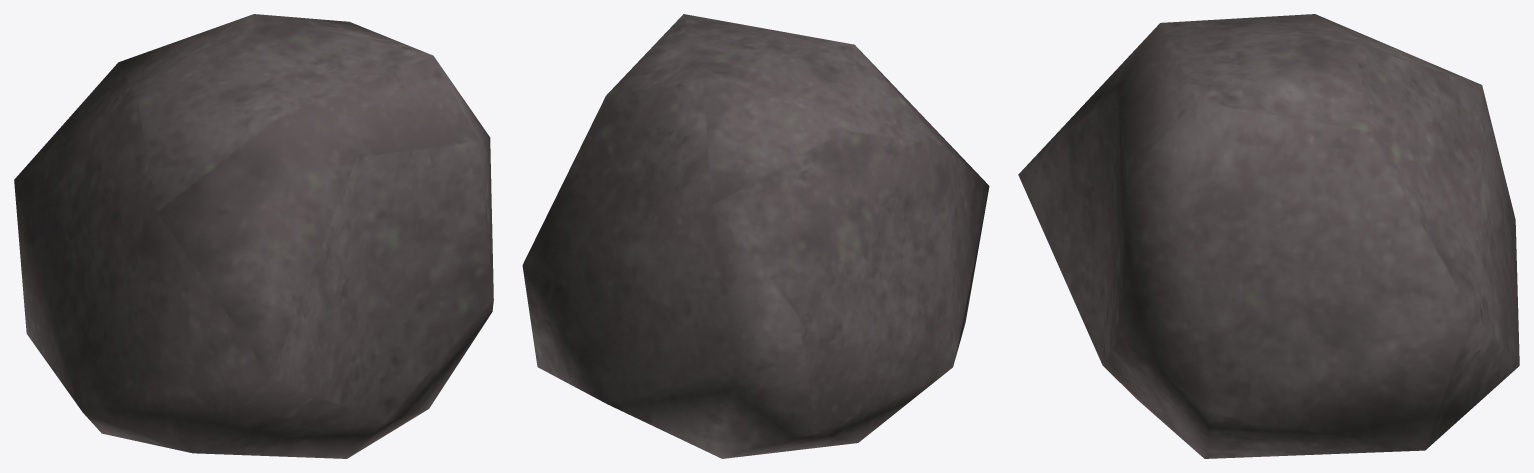
Rendered from SM_SmallRock3.fbx.
3 renders of one model, left to right at view 1: azimuth 30°, elevation 25°; view 2: azimuth 150°, elevation 25°; view 3: azimuth 270°, elevation 25°, orthographic. The views are drawn at different scales.
Visible parts, largest first — view 1: SM_SmallRock3_LOD0; view 2: SM_SmallRock3_LOD0; view 3: SM_SmallRock3_LOD0.
Part boxes in pixels (x1=…): SM_SmallRock3_LOD0: x1=14, y1=14, x2=493, y2=458; SM_SmallRock3_LOD0: x1=522, y1=14, x2=989, y2=458; SM_SmallRock3_LOD0: x1=1018, y1=14, x2=1519, y2=458.
Bounding box in the file's own units: 17.37 × 19.12 × 15.75.
Materials: 1 (1 with a texture image).
